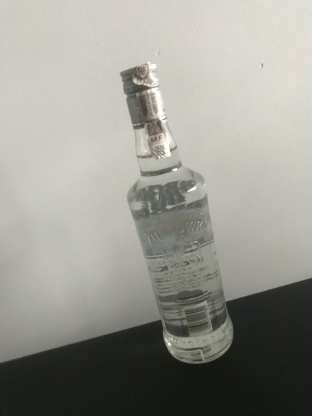nakretka: (118, 58, 168, 131)
